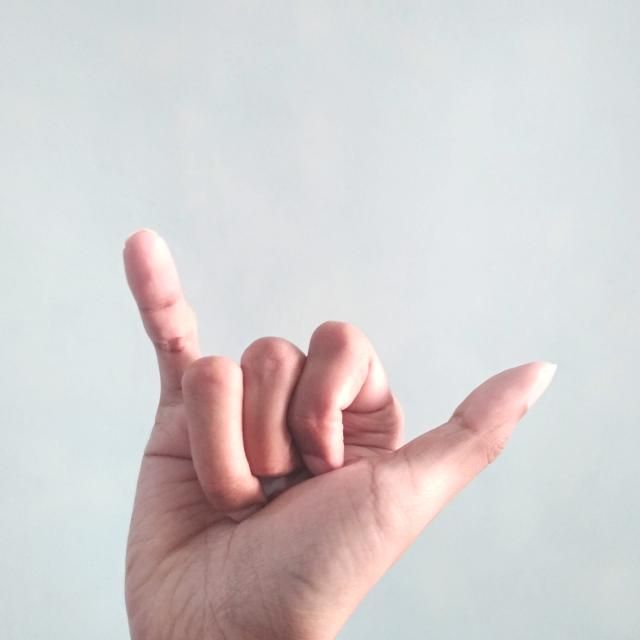Y: (110, 214, 564, 640)
